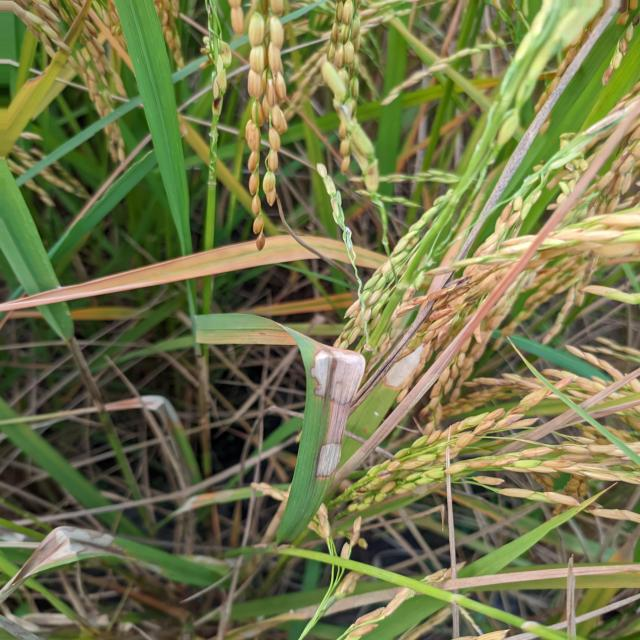Leaf_Blast: (0, 235, 317, 311), (300, 236, 348, 262), (355, 248, 387, 269)
Rice False Smut: (0, 526, 123, 601), (308, 344, 365, 478), (140, 395, 167, 410)
